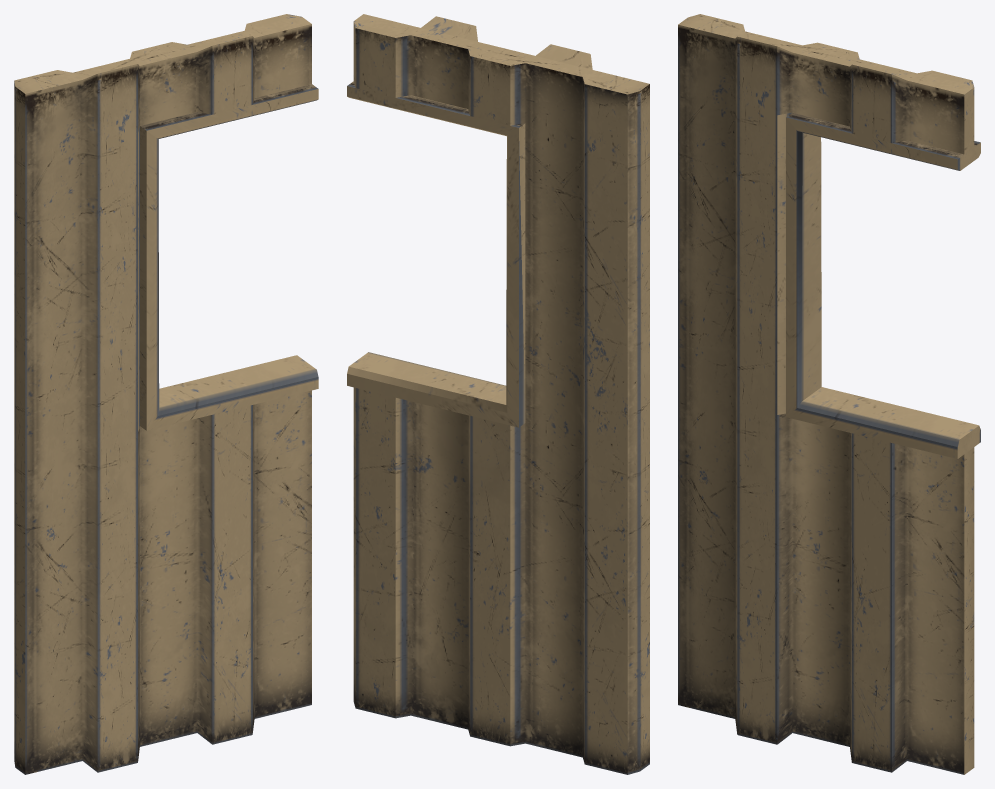
File: CnWallWindowA1C.fbx
3 renders of one model, left to right at view 1: azimuth 30°, elevation 25°; view 2: azimuth 150°, elevation 25°; view 3: azimuth 330°, elevation 25°, orthographic.
Visible parts, largest first — view 1: CnWallWindowA1C; view 2: CnWallWindowA1C; view 3: CnWallWindowA1C.
Boxes of the visible parts, x1=… form: CnWallWindowA1C: x1=14, y1=14, x2=318, y2=774; CnWallWindowA1C: x1=347, y1=14, x2=649, y2=774; CnWallWindowA1C: x1=678, y1=14, x2=980, y2=774.
Bounding box in the file's own units: 100 × 233 × 14.
